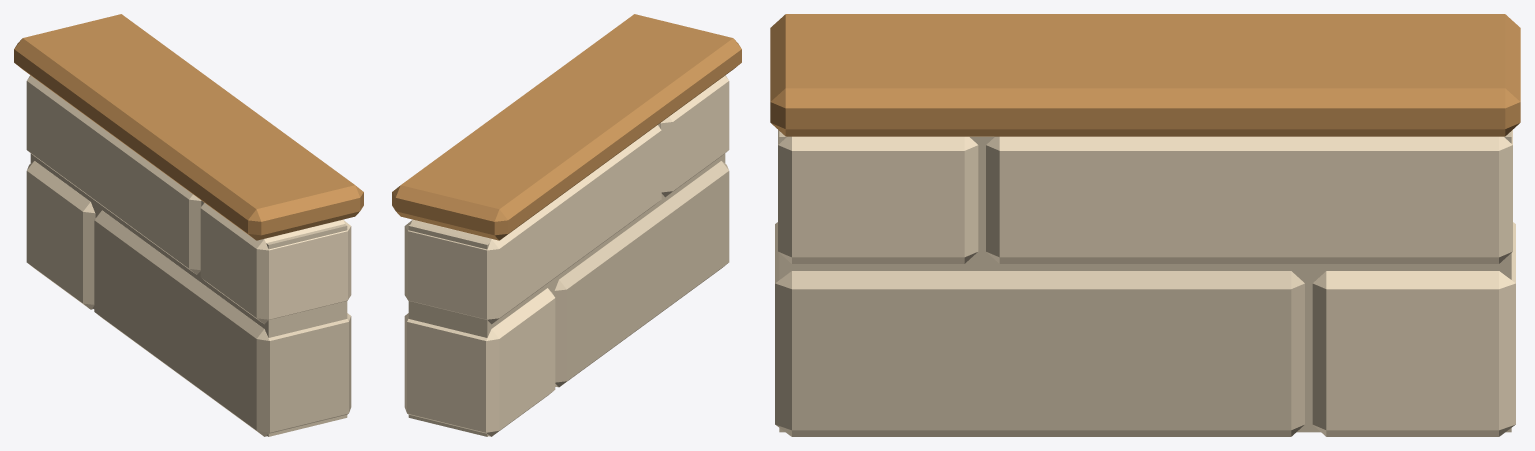
File: mod_wall_curved_r2.42_n16_lip.glb
3 views of the same model, side by side, from view 1: azimuth 30°, elevation 25°; view 2: azimuth 150°, elevation 25°; view 3: azimuth 270°, elevation 25° (orthographic). The views are drawn at different scales.
Visible parts, largest first — view 1: mod_wall_curved_r2.42_n16_lip; view 2: mod_wall_curved_r2.42_n16_lip; view 3: mod_wall_curved_r2.42_n16_lip.
Boxes of the visible parts, bbox=[...] form: mod_wall_curved_r2.42_n16_lip: bbox=[14, 14, 363, 436]; mod_wall_curved_r2.42_n16_lip: bbox=[392, 14, 741, 436]; mod_wall_curved_r2.42_n16_lip: bbox=[770, 14, 1520, 436].
Bounding box in the file's own units: 0.27 × 0.515 × 0.9827.
